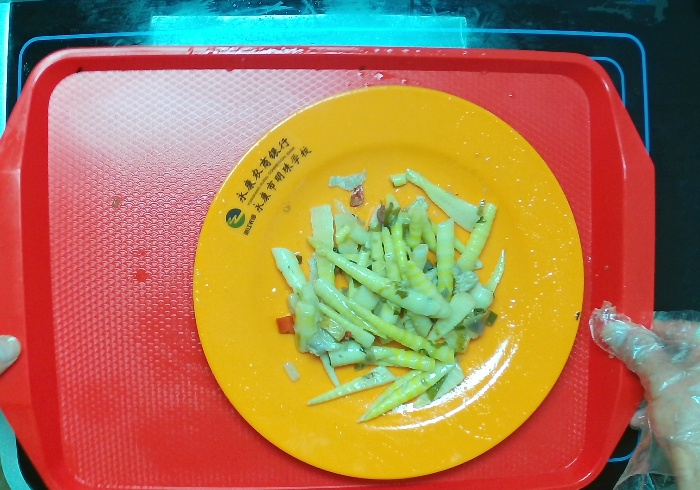YKMZ-Ju_Se_Mian_Pan: (175, 72, 598, 490)
